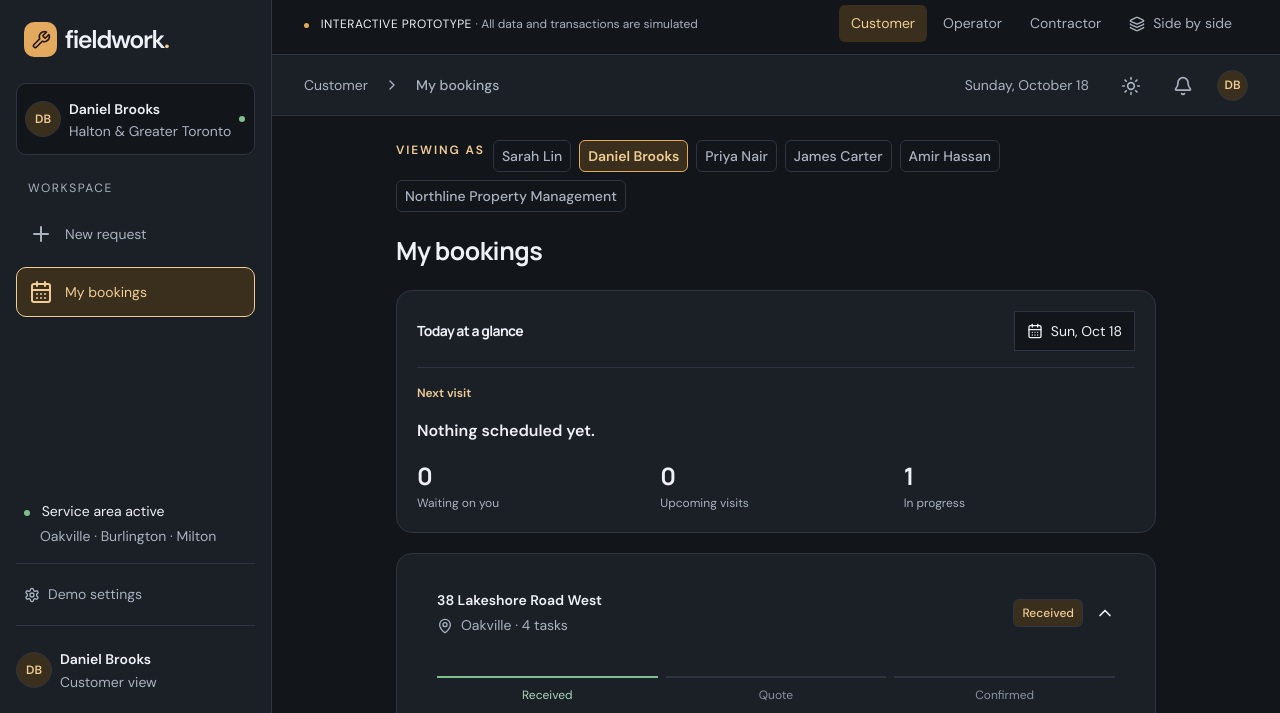
Test: Customer workspace › offers to continue a request left part way
The image size is (1280, 713).
Step 1. Click the button "New request" → (136, 234), box [16,209,255,259]
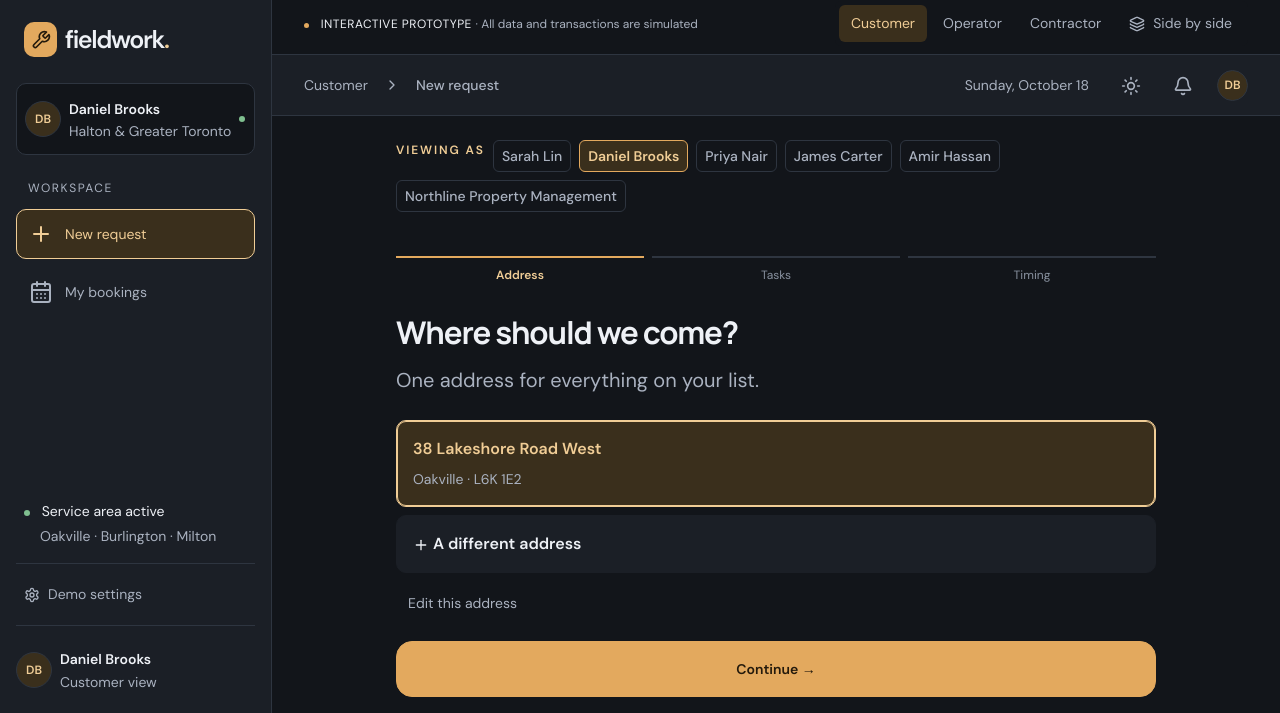
Result: the heading "Where should we come?" is shown at [396,311,738,353]
Step 2. Click the button "My bookings" → (136, 292), box [16,267,255,317]
(page scrolled)
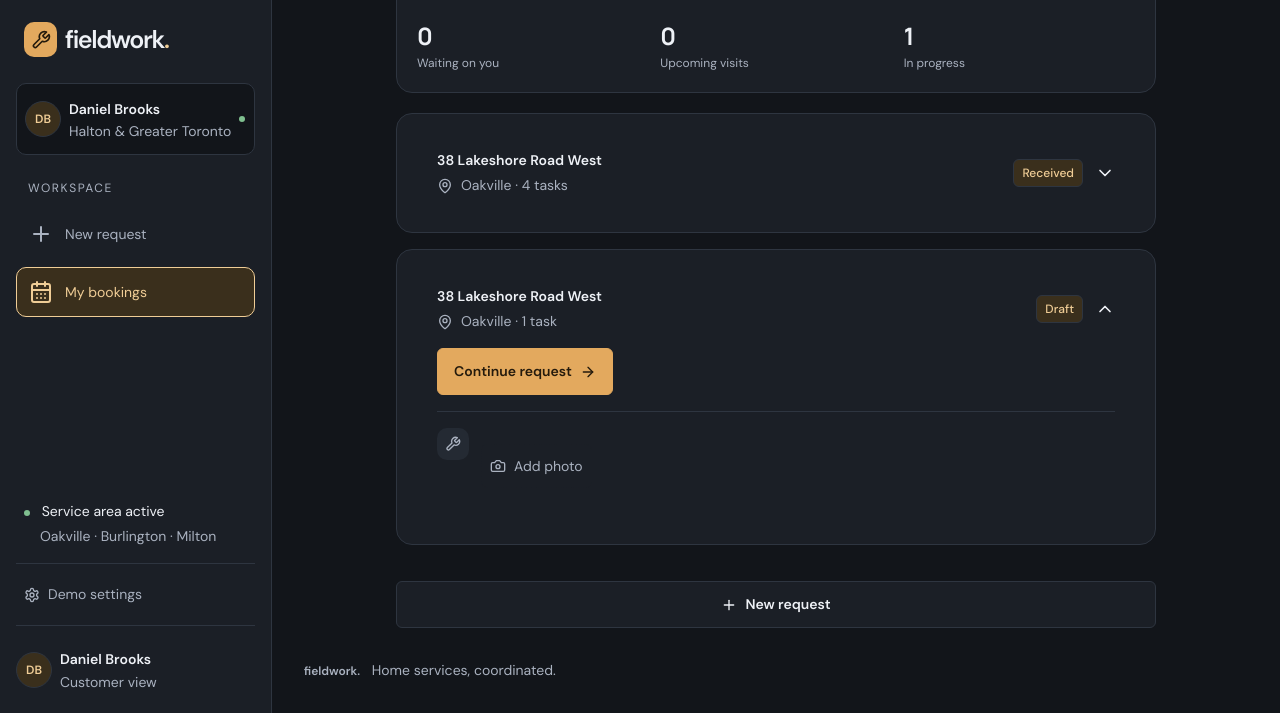
Result: the button "Continue request" is shown at [437,348,613,395]
